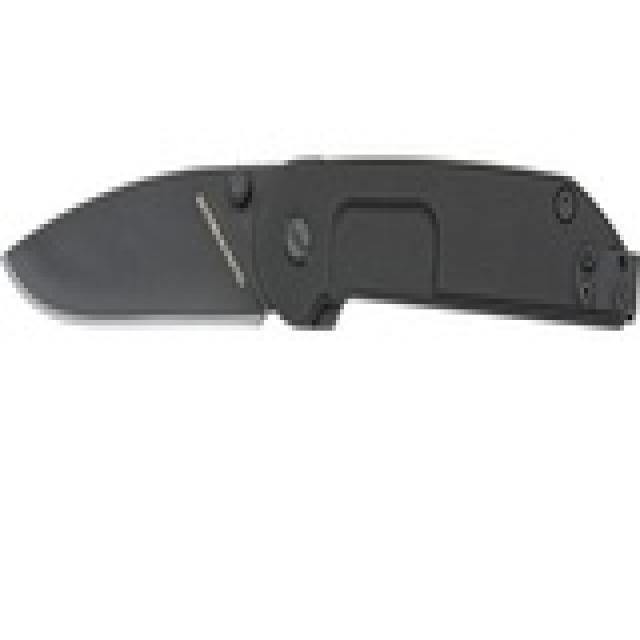Knife: (6, 156, 638, 336)
